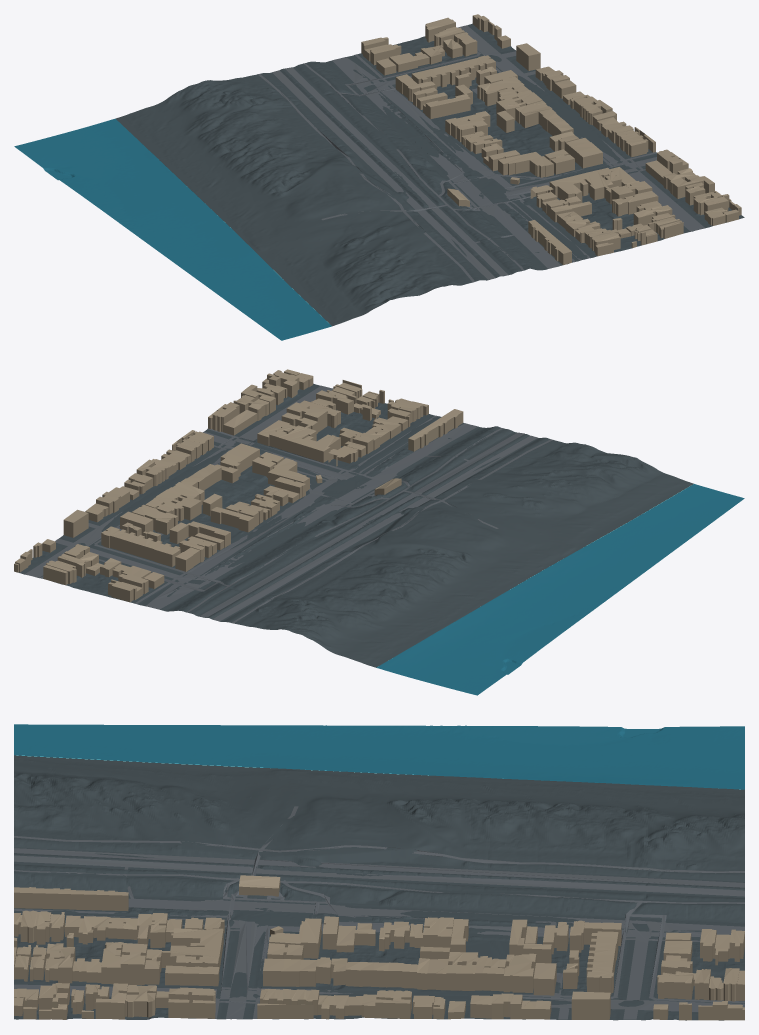
The model's file is epsg26910-1414-10883.lod0.glb.
3 views of the same model, one above another, from view 1: azimuth 30°, elevation 25°; view 2: azimuth 150°, elevation 25°; view 3: azimuth 270°, elevation 25° (orthographic). The views are drawn at different scales.
Visible parts, largest first — view 1: epsg26910-1414-10883-lod0; view 2: epsg26910-1414-10883-lod0; view 3: epsg26910-1414-10883-lod0.
Part boxes in pixels (<box>): epsg26910-1414-10883-lod0: <box>14,14,744,340</box>; epsg26910-1414-10883-lod0: <box>14,369,744,695</box>; epsg26910-1414-10883-lod0: <box>14,724,744,1020</box>.
Bounding box in the file's own units: 384 × 23.19 × 384.
